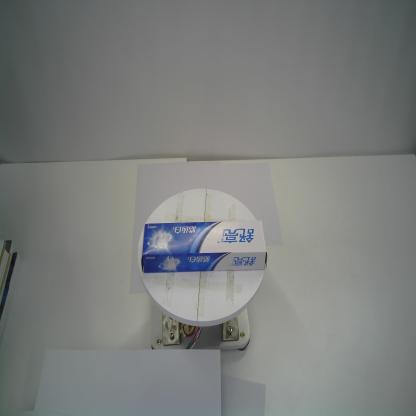Personal Hygiene: (141, 217, 269, 275)
